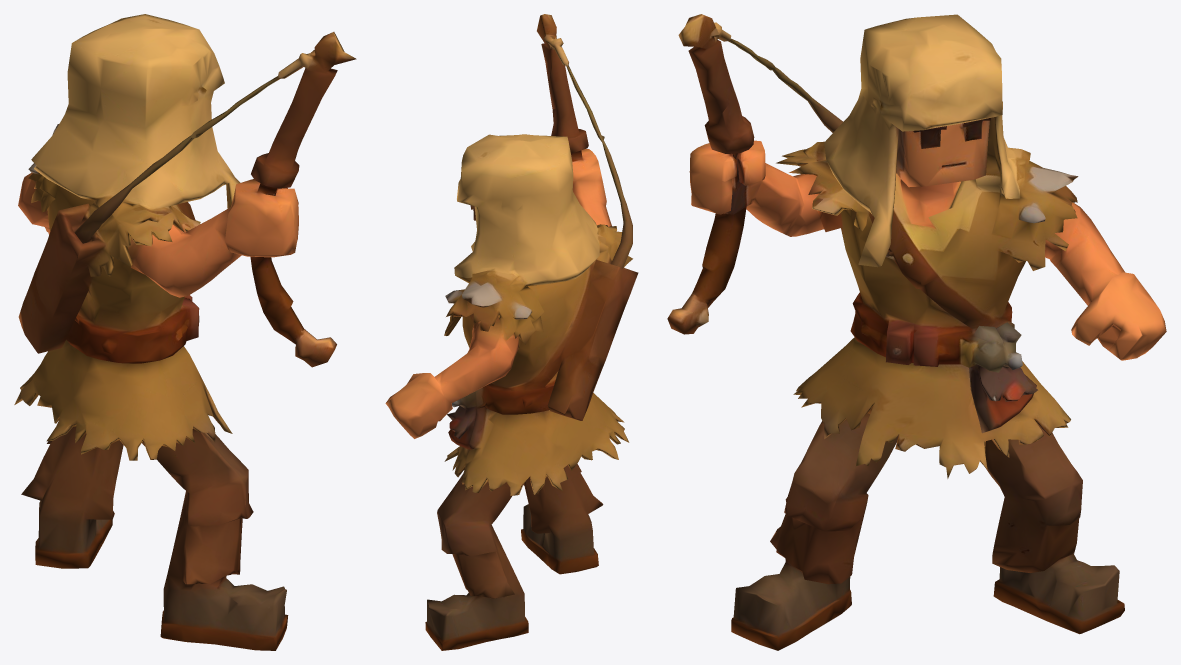
The model's file is raider_slinger.glb.
3 views of the same model, side by side, from view 1: azimuth 30°, elevation 25°; view 2: azimuth 150°, elevation 25°; view 3: azimuth 270°, elevation 25° (orthographic). The views are drawn at different scales.
Visible parts, largest first — view 1: tripo_node_41ef0ed5-0774-4274-b5a8-cc802a44e440; view 2: tripo_node_41ef0ed5-0774-4274-b5a8-cc802a44e440; view 3: tripo_node_41ef0ed5-0774-4274-b5a8-cc802a44e440.
Part boxes in pixels (bbox=[...]): tripo_node_41ef0ed5-0774-4274-b5a8-cc802a44e440: bbox=[14, 14, 356, 650]; tripo_node_41ef0ed5-0774-4274-b5a8-cc802a44e440: bbox=[385, 14, 638, 650]; tripo_node_41ef0ed5-0774-4274-b5a8-cc802a44e440: bbox=[667, 14, 1166, 650].
Size of the model in its own units: 0.345 by 1 by 0.7049.
Materials: 1 (1 with a texture image).
